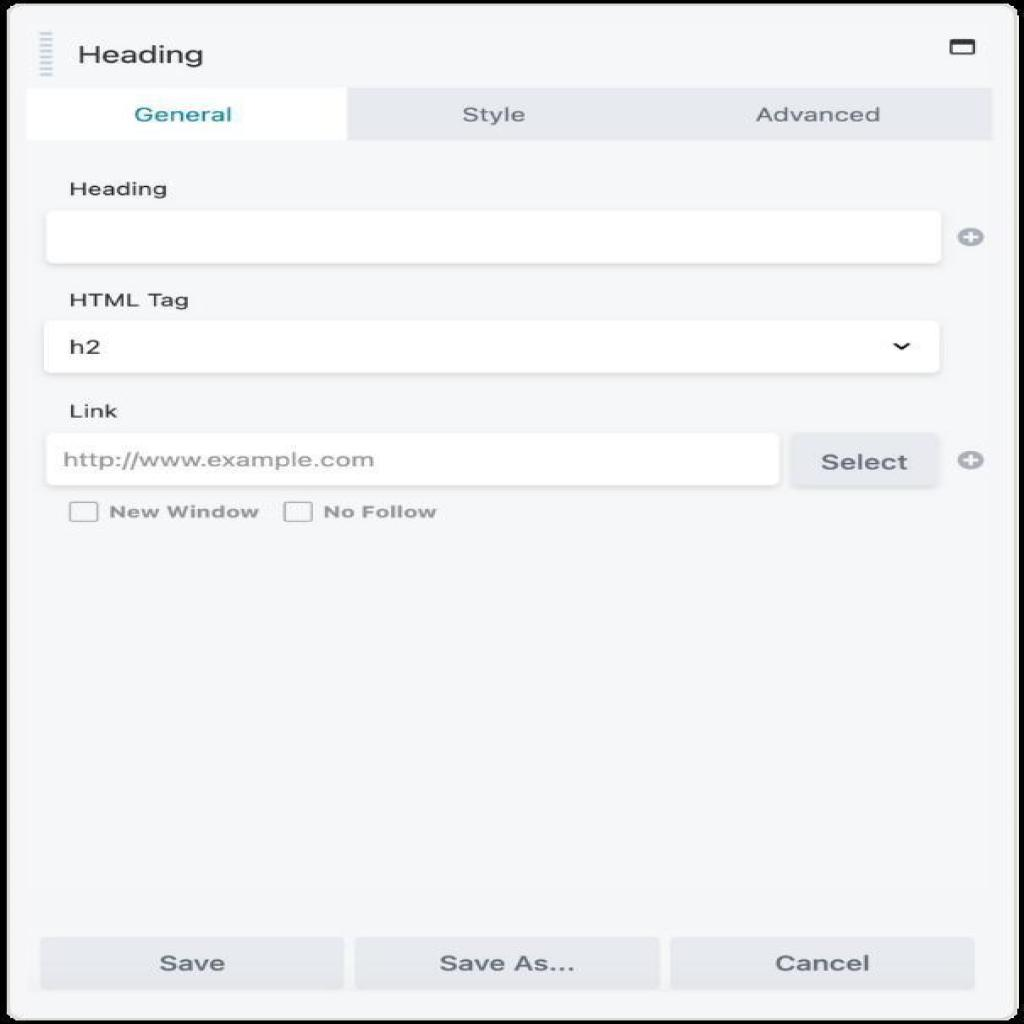button: (354, 932, 662, 996), (36, 932, 347, 994), (664, 931, 976, 992), (787, 430, 939, 491)
checkbox: (66, 498, 102, 524), (280, 498, 316, 524)
dropdown: (39, 314, 946, 378)
input: (37, 205, 950, 270), (39, 429, 784, 490)
label: (74, 42, 210, 72), (756, 102, 898, 128), (64, 176, 174, 202), (58, 289, 194, 309), (105, 506, 261, 522), (320, 503, 442, 520), (458, 104, 532, 127), (134, 108, 232, 124), (61, 402, 130, 422)
